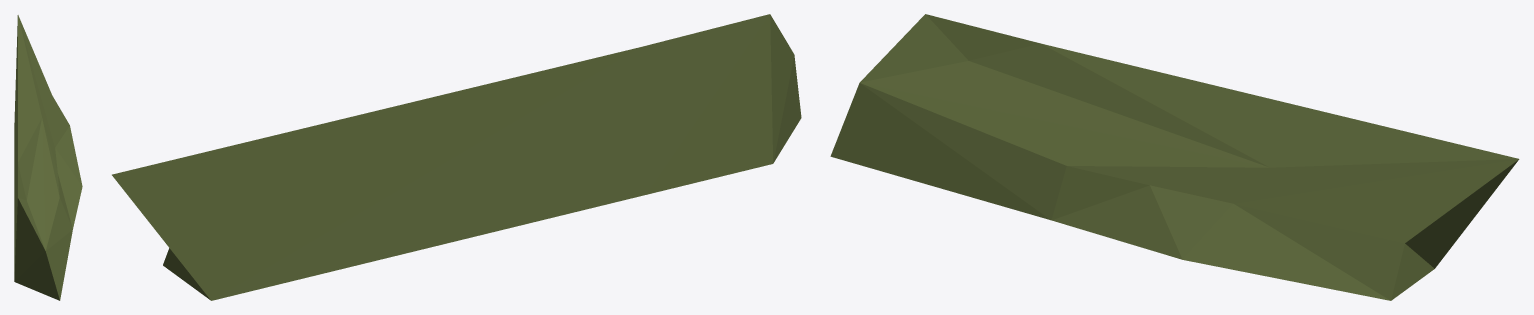
File: ground_49.fbx
The picture shows the model from 3 angles, left to right: view 1: azimuth 30°, elevation 25°; view 2: azimuth 150°, elevation 25°; view 3: azimuth 270°, elevation 25°; orthographic projection. The views are drawn at different scales.
Parts seen in each view (by area): view 1: ground_49; view 2: ground_49; view 3: ground_49.
Part boxes in pixels (x1,y1,x2,y2): ground_49: (14,15,82,300); ground_49: (112,14,801,300); ground_49: (830,14,1519,300).
Bounding box in the file's own units: 2.33 × 0.9305 × 4.36.
